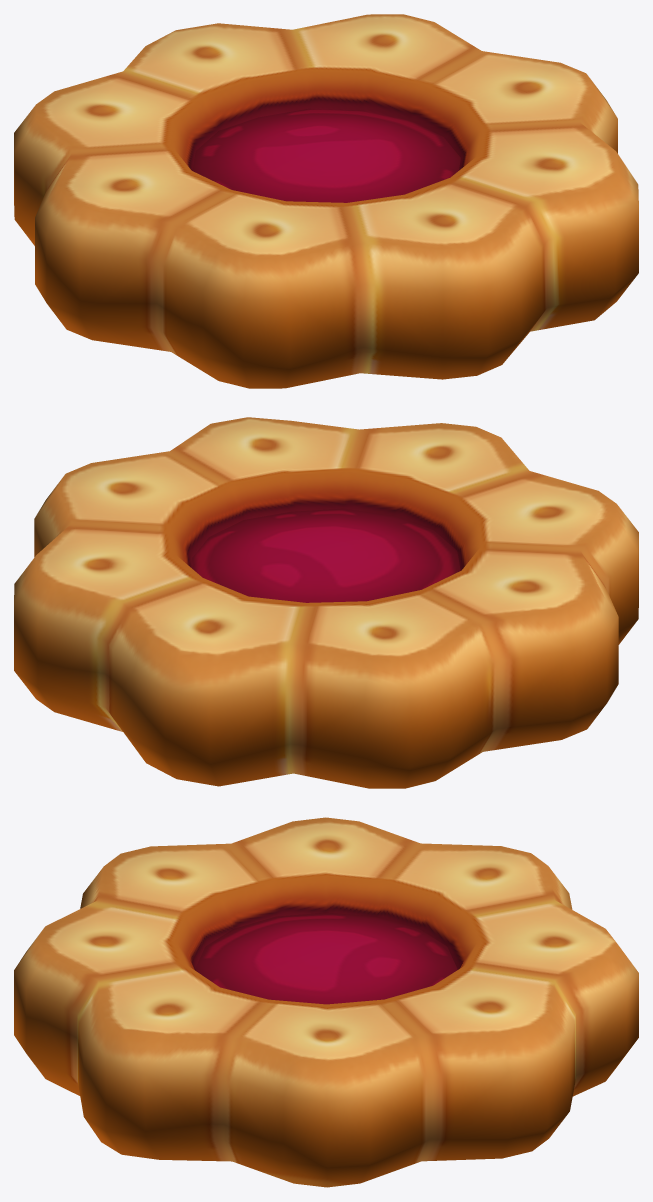
File: 009-Cookies04.FBX
3 views of the same model, one above another, from view 1: azimuth 30°, elevation 25°; view 2: azimuth 150°, elevation 25°; view 3: azimuth 270°, elevation 25° (orthographic). The views are drawn at different scales.
Visible parts, largest first — view 1: 009-Cookies04; view 2: 009-Cookies04; view 3: 009-Cookies04.
Boxes of the visible parts, x1,y1,x2,y2 form: 009-Cookies04: (14, 14, 638, 388); 009-Cookies04: (14, 417, 638, 788); 009-Cookies04: (14, 817, 638, 1187).
Size of the model in its own units: 12.96 by 2.98 by 12.96.
